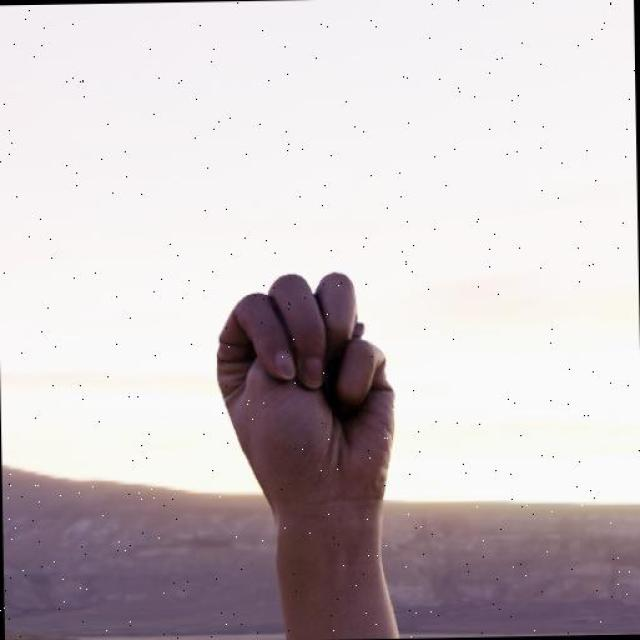M: (211, 268, 400, 516)
